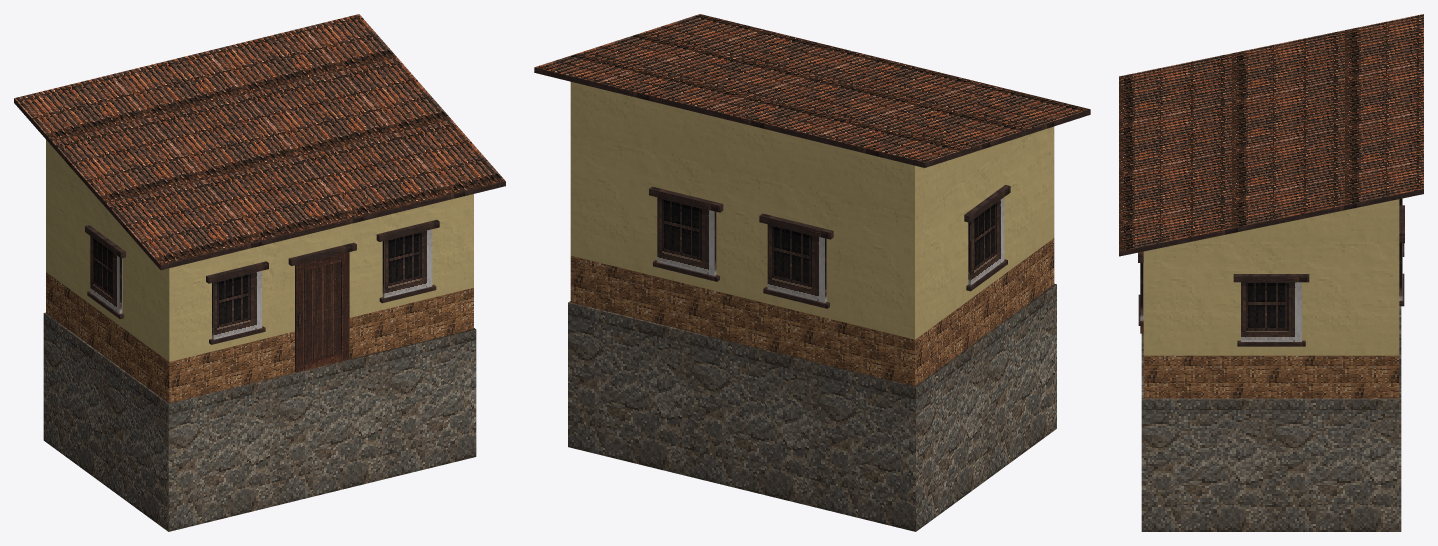
Rendered from 08_caserio_amarillo_un_agua.glb.
The picture shows the model from 3 angles, left to right: view 1: azimuth 30°, elevation 25°; view 2: azimuth 150°, elevation 25°; view 3: azimuth 270°, elevation 25°; orthographic projection. The views are drawn at different scales.
Parts seen in each view (by area): view 1: 08_caserio_amarillo_un_agua; view 2: 08_caserio_amarillo_un_agua; view 3: 08_caserio_amarillo_un_agua.
Boxes of the visible parts, x1,y1,x2,y2 form: 08_caserio_amarillo_un_agua: (14, 14, 505, 531); 08_caserio_amarillo_un_agua: (534, 14, 1090, 531); 08_caserio_amarillo_un_agua: (1119, 14, 1423, 531).
Bounding box in the file's own units: 6.8 × 6.38 × 5.
7 materials, 7 textured.
